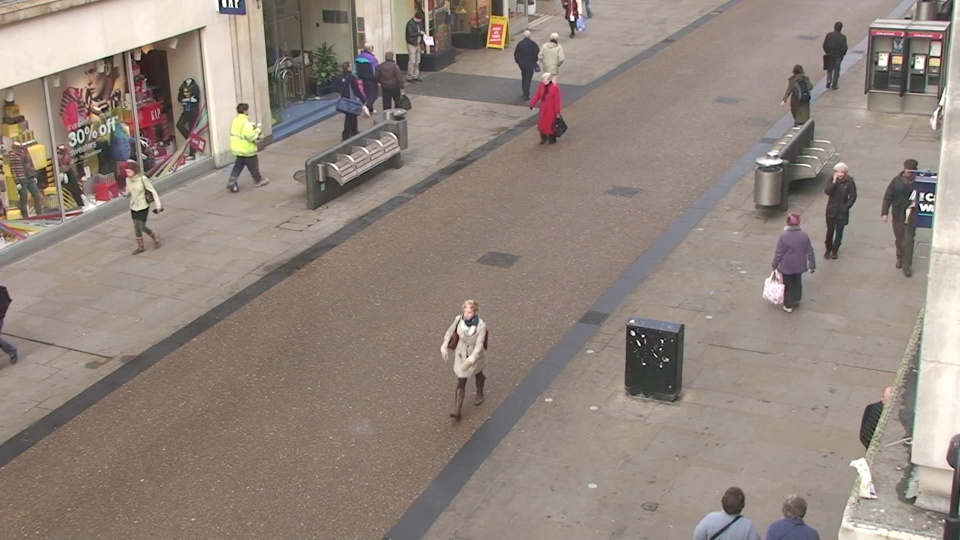pedestrian: (448, 293, 495, 435), (769, 207, 813, 327), (881, 153, 928, 262), (115, 158, 160, 262), (816, 159, 858, 267), (699, 472, 763, 540), (758, 477, 824, 540), (227, 98, 262, 187), (779, 61, 811, 143), (533, 70, 562, 153), (333, 57, 362, 136), (820, 20, 851, 93), (376, 48, 404, 124), (356, 39, 383, 112), (514, 27, 539, 97), (543, 29, 567, 100), (406, 10, 430, 76)
